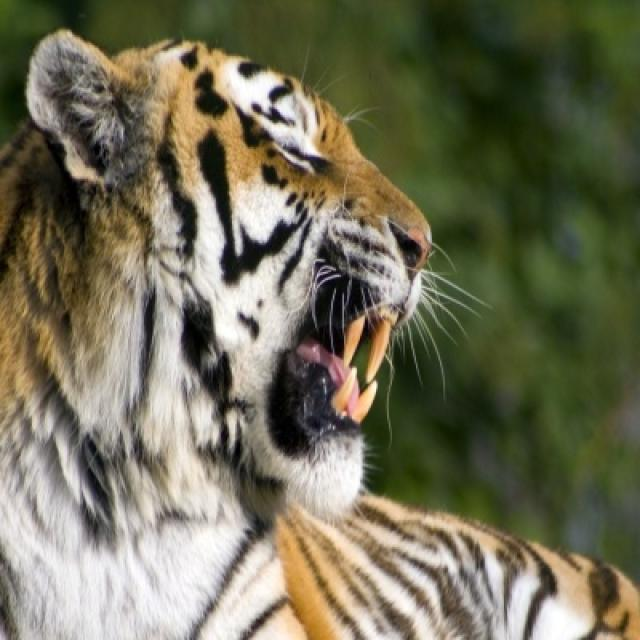Tiger: (0, 28, 638, 633)
